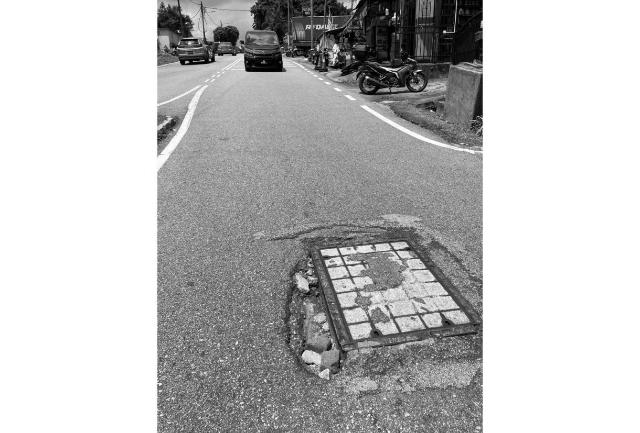Pothole: (286, 252, 346, 382)
